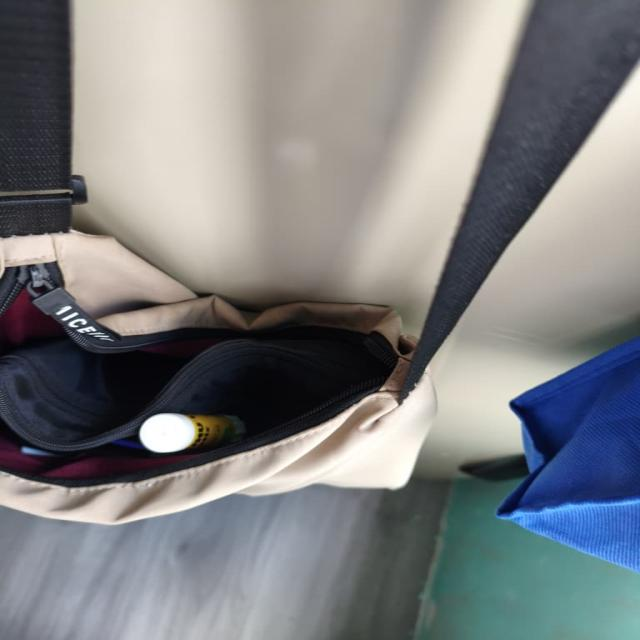glue: (138, 414, 245, 453)
